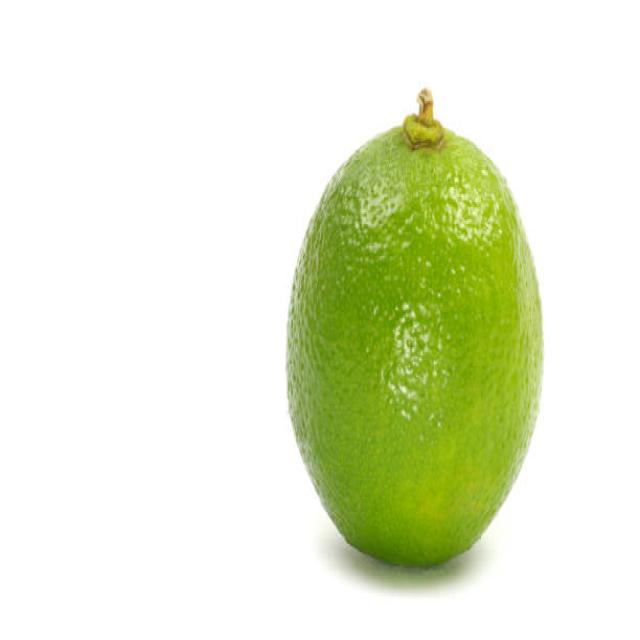Unripe: (285, 112, 544, 570)
